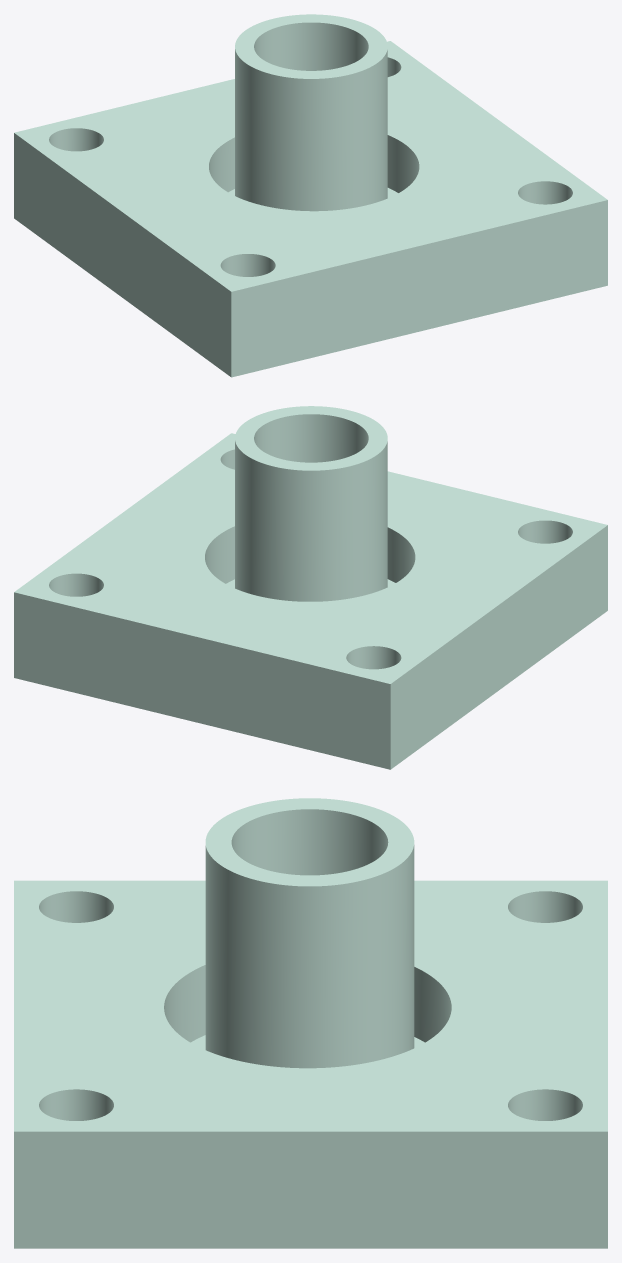
The picture shows the model from 3 angles, top to bottom: view 1: azimuth 30°, elevation 25°; view 2: azimuth 150°, elevation 25°; view 3: azimuth 270°, elevation 25°; orthographic projection. The views are drawn at different scales.
Visible parts, largest first — view 1: Renderer Node; view 2: Renderer Node; view 3: Renderer Node.
Boxes of the visible parts, box(x1,y1,x2,y2) form: Renderer Node: box(14, 14, 607, 377); Renderer Node: box(14, 406, 607, 769); Renderer Node: box(14, 798, 607, 1248).
Size of the model in its own units: 1.44 by 0.75 by 1.44.
